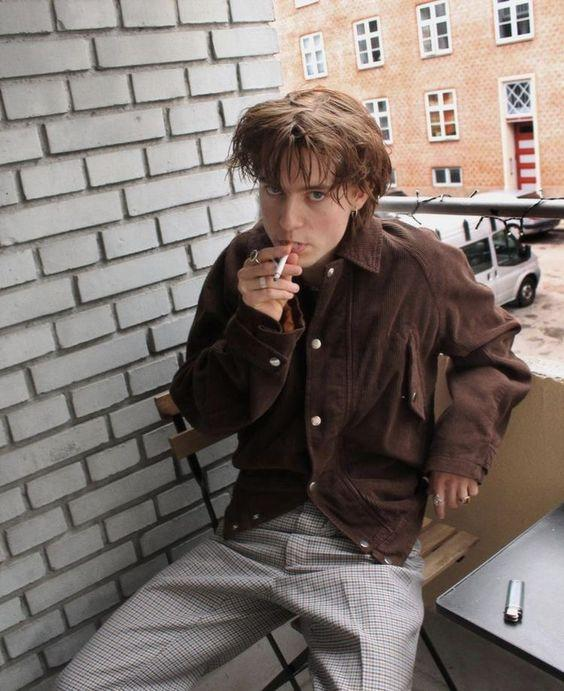cigarette: (273, 256, 289, 282)
